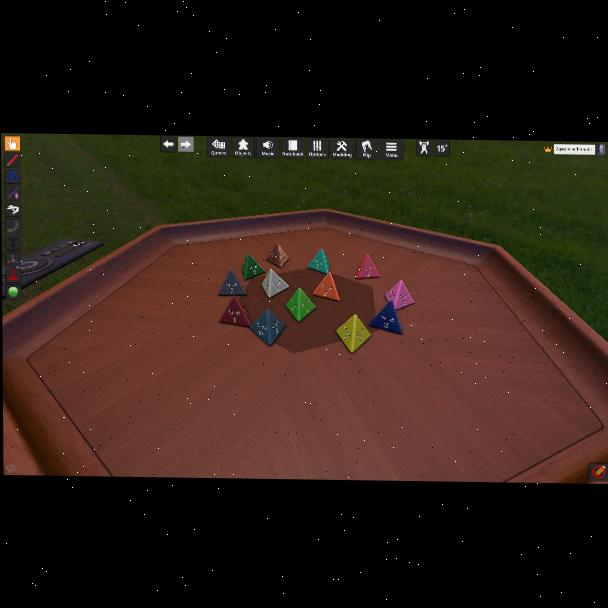d4: (249, 309, 286, 347), (335, 315, 368, 353), (370, 301, 403, 334), (219, 297, 252, 328), (286, 288, 313, 323), (385, 279, 414, 311), (261, 269, 289, 299), (218, 270, 248, 297), (311, 273, 337, 302), (242, 253, 266, 281), (355, 254, 379, 281), (266, 243, 289, 269), (308, 249, 330, 275)
